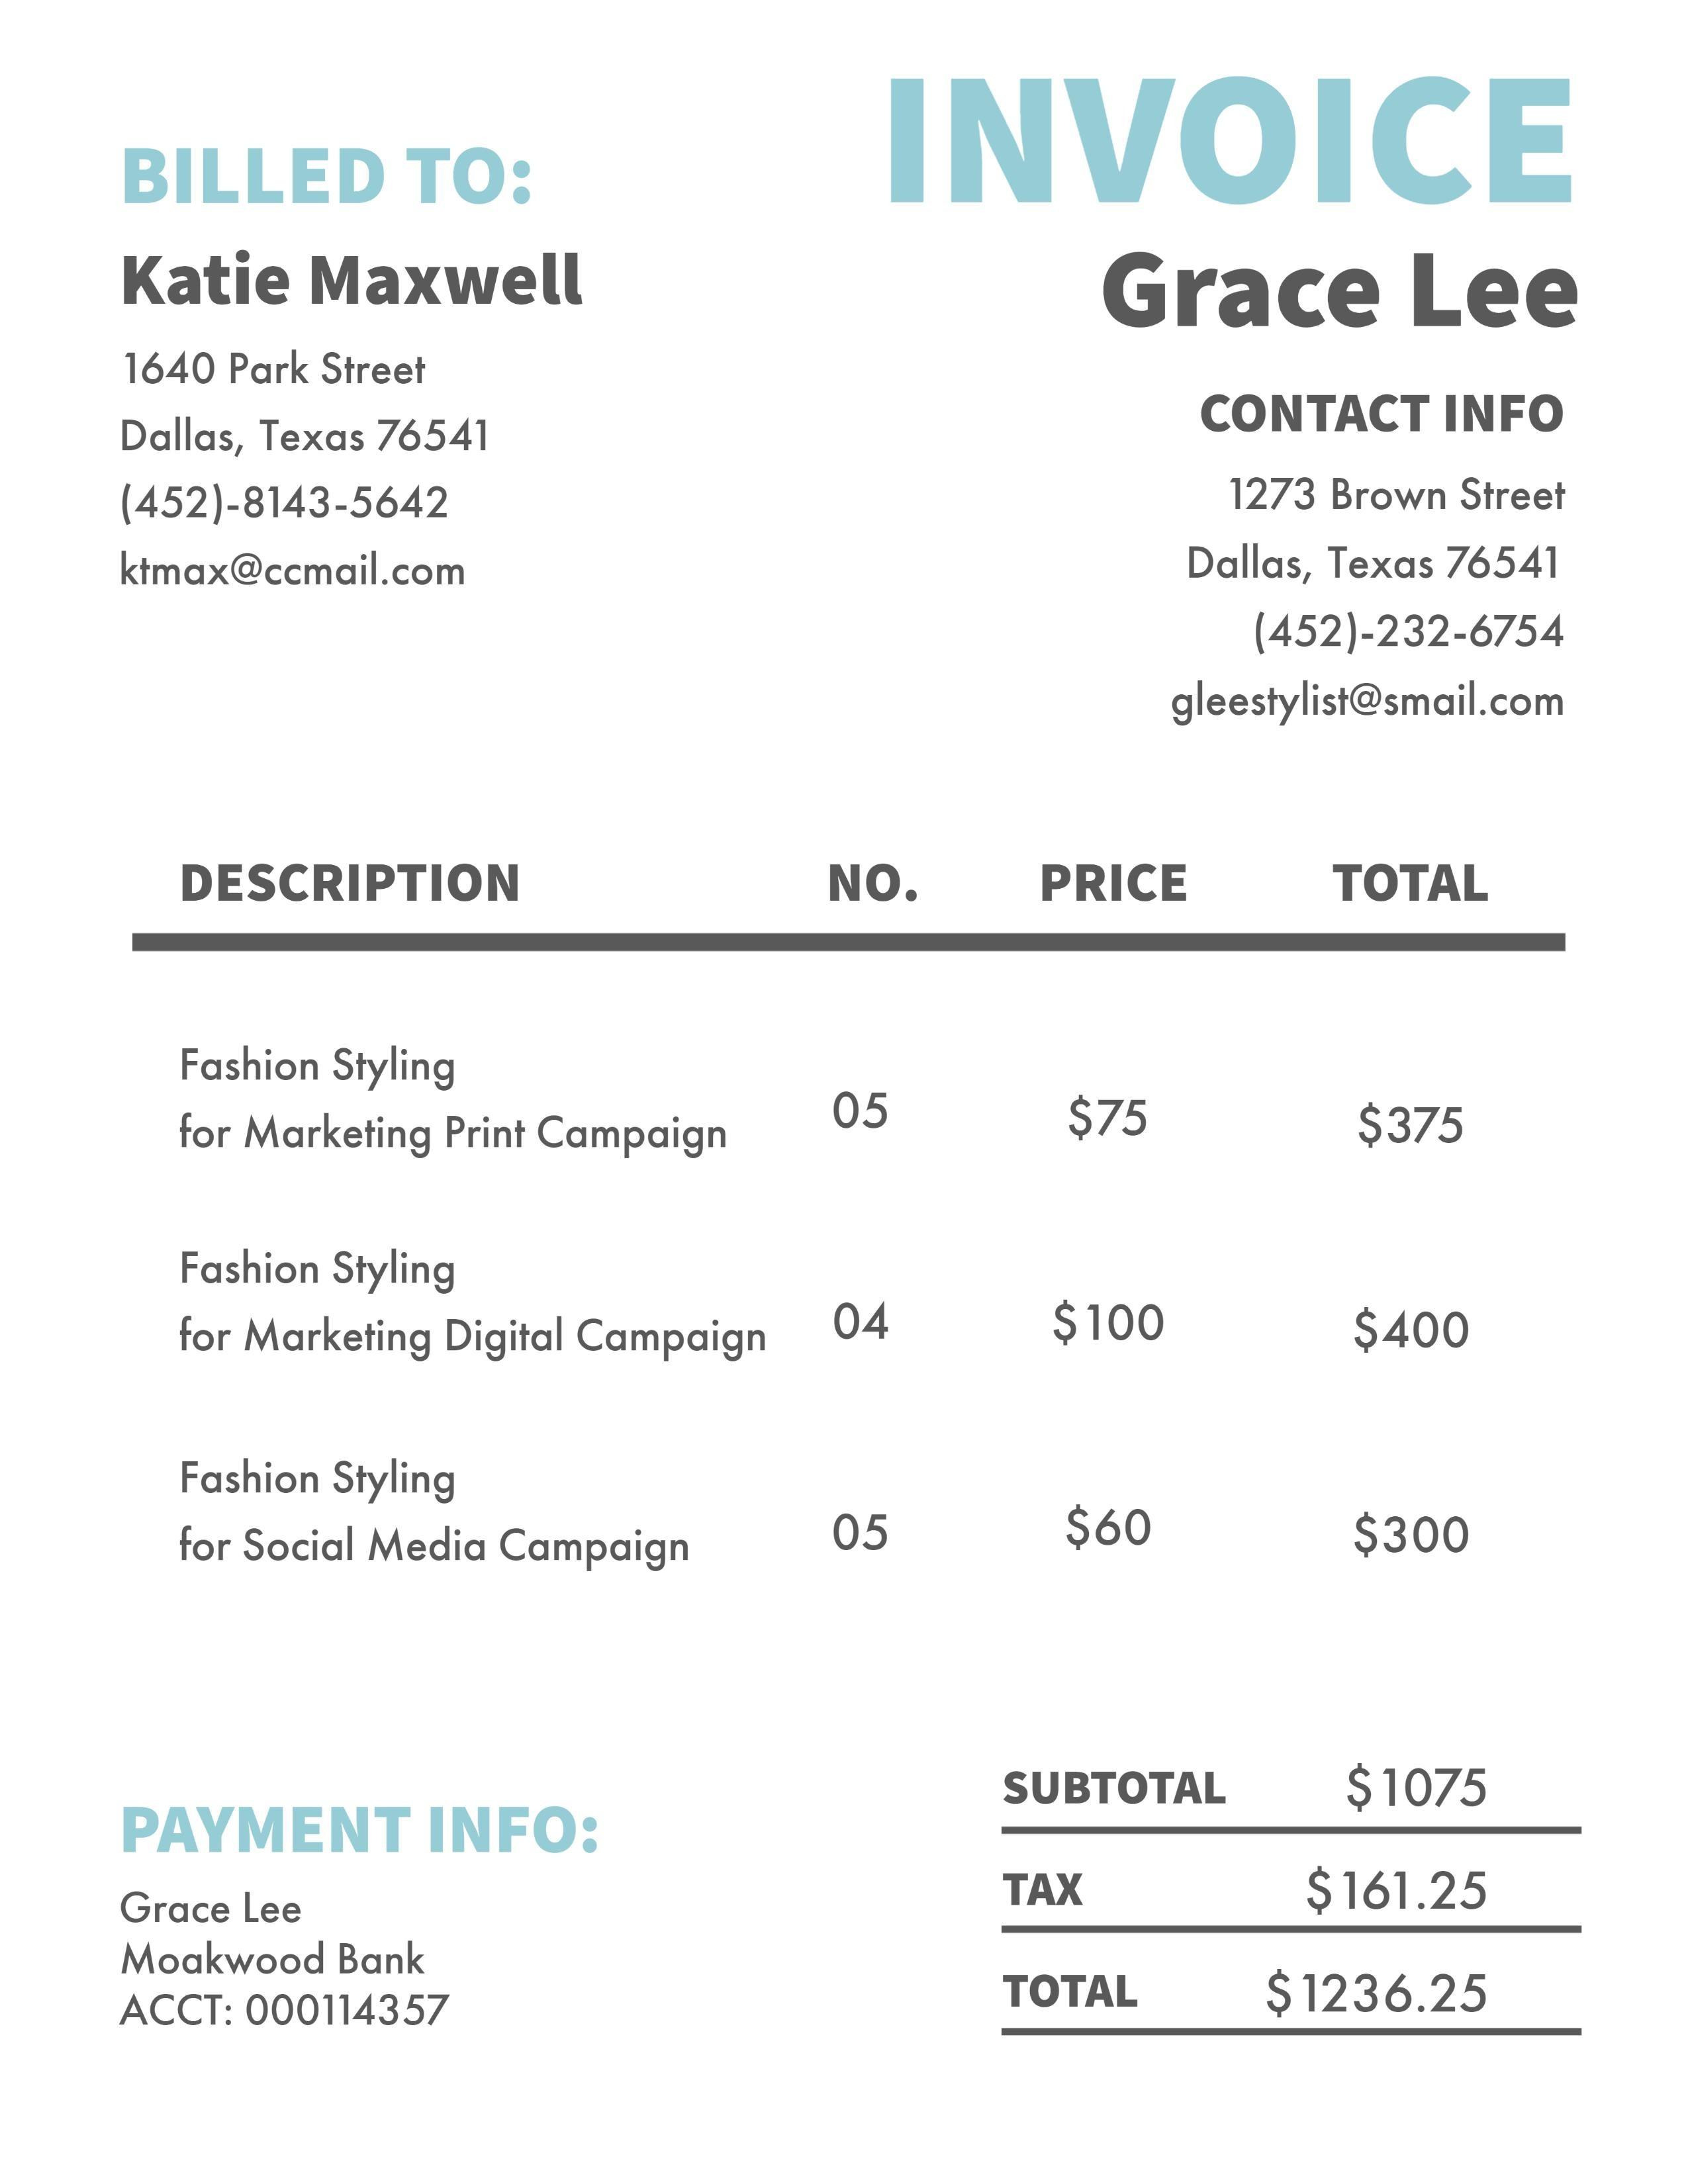ROI: (134, 848, 1509, 1575), (1066, 222, 1627, 735), (97, 131, 605, 596), (994, 1763, 1504, 2025), (103, 1792, 624, 2041)
